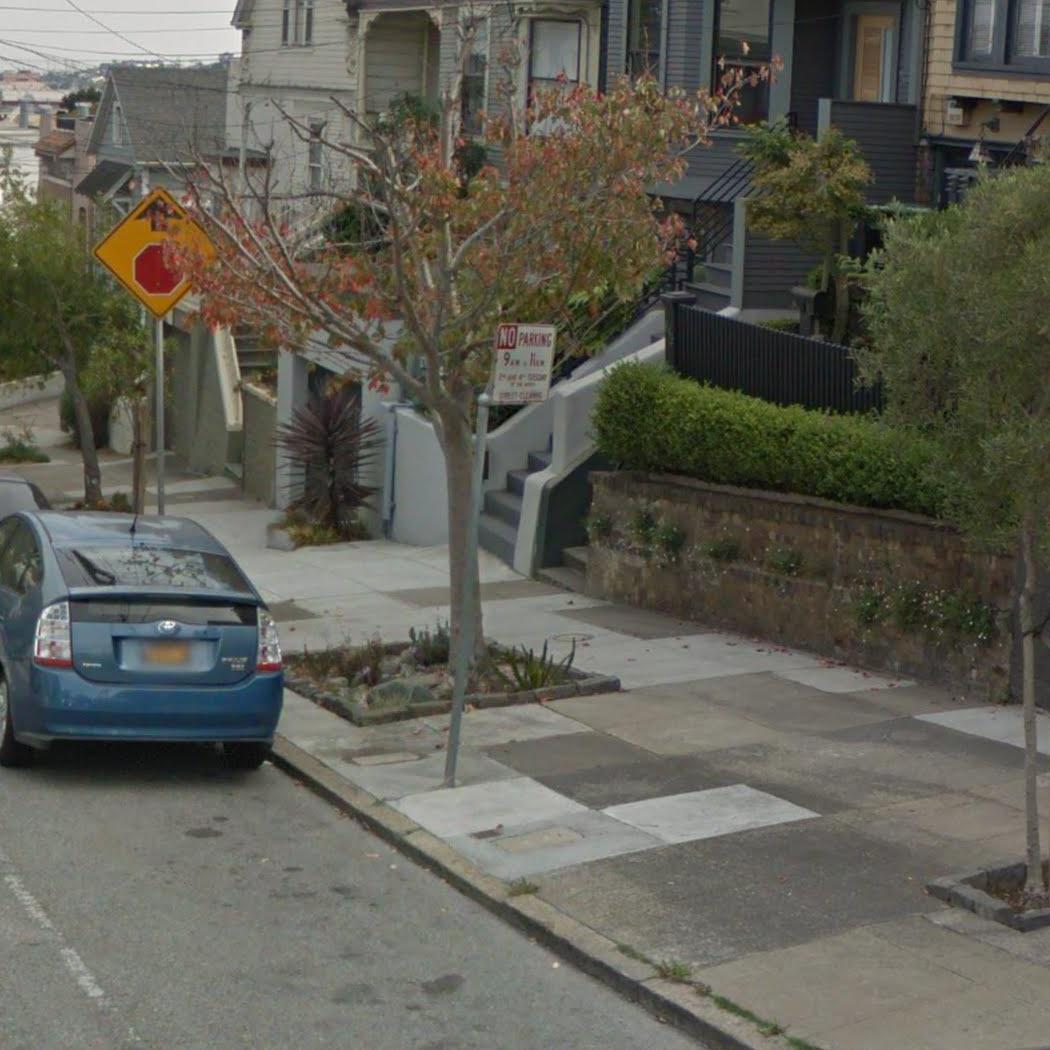No Parking: (489, 320, 559, 406)
